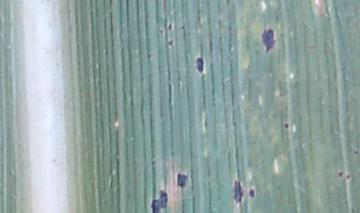tarspot: (259, 25, 279, 56), (150, 190, 169, 213), (232, 178, 243, 204), (175, 171, 190, 190), (194, 56, 205, 73), (247, 187, 256, 200), (167, 38, 175, 48), (282, 121, 290, 130), (336, 170, 344, 179), (344, 172, 352, 181), (149, 158, 157, 167), (166, 21, 173, 31), (178, 23, 186, 31), (145, 52, 152, 60), (307, 44, 316, 50), (157, 28, 164, 35), (352, 149, 360, 155)
